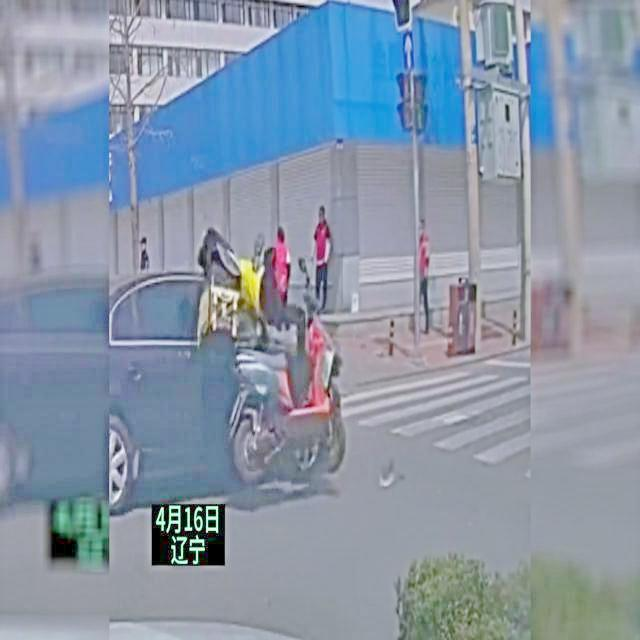Car: (96, 250, 318, 504)
Minor Accident: (106, 229, 368, 517)
Motor: (194, 232, 362, 494)
